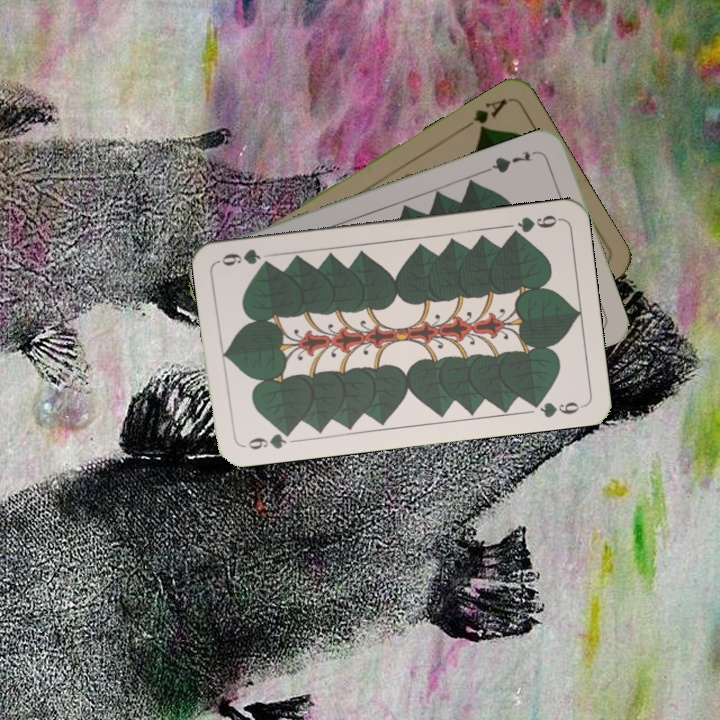G7: (484, 147, 534, 176)
G9: (505, 210, 563, 239), (244, 425, 296, 452)
GA: (457, 95, 509, 134)
